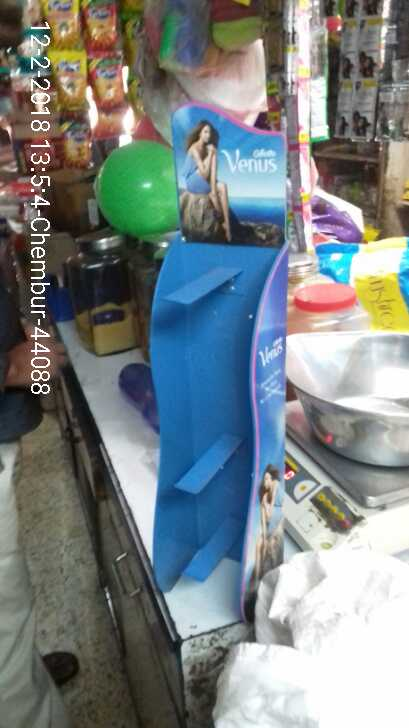reject: (216, 234, 277, 323)
